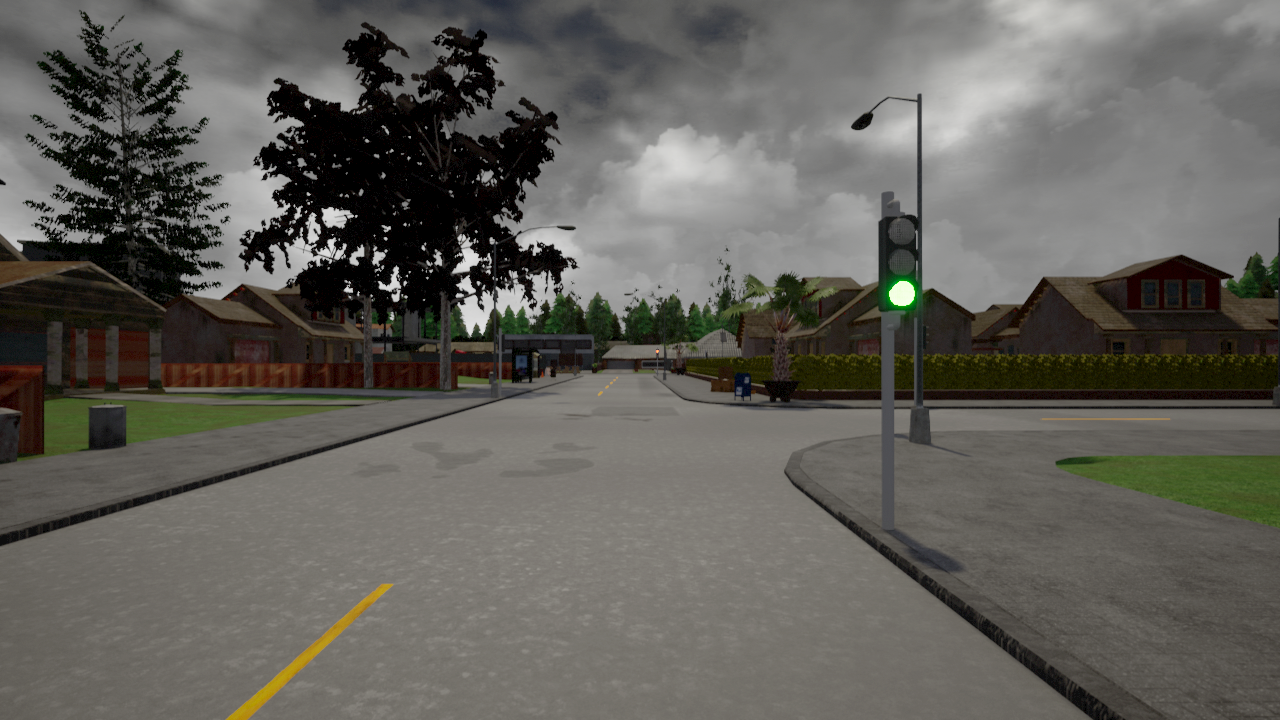green: (876, 214, 920, 312)
